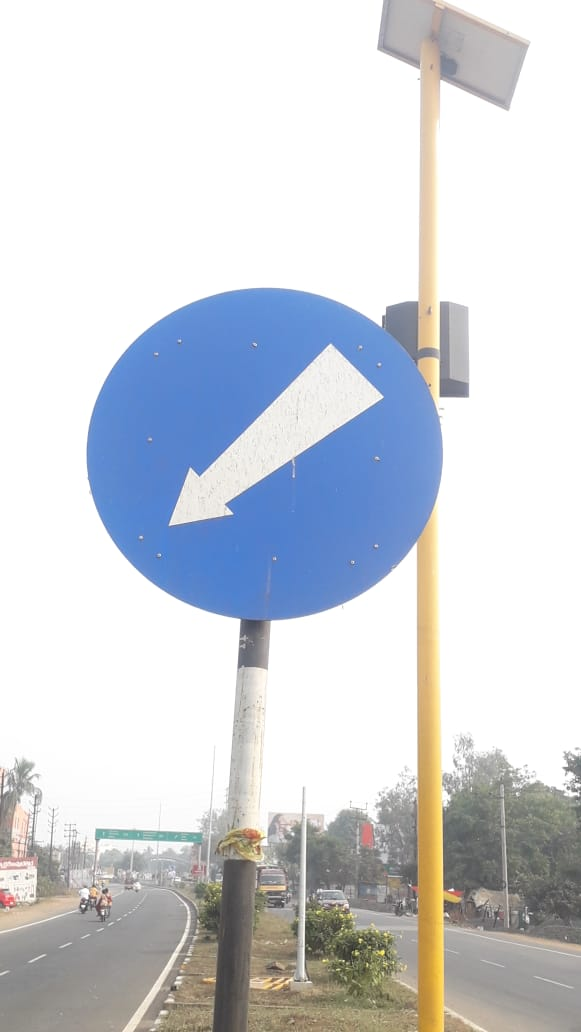go left: (73, 254, 448, 639)
